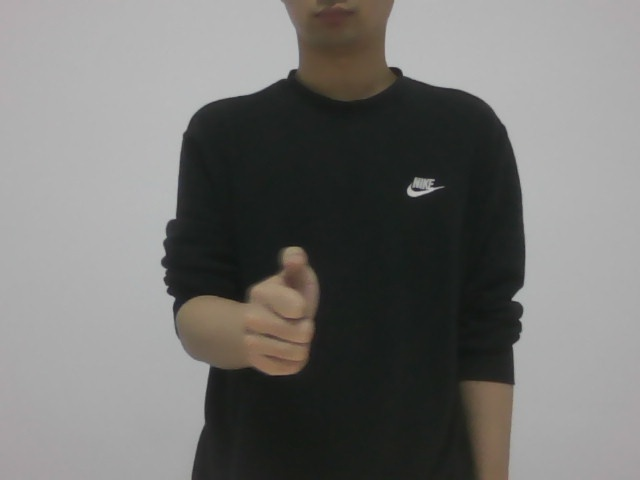thank you: (242, 237, 339, 378)
